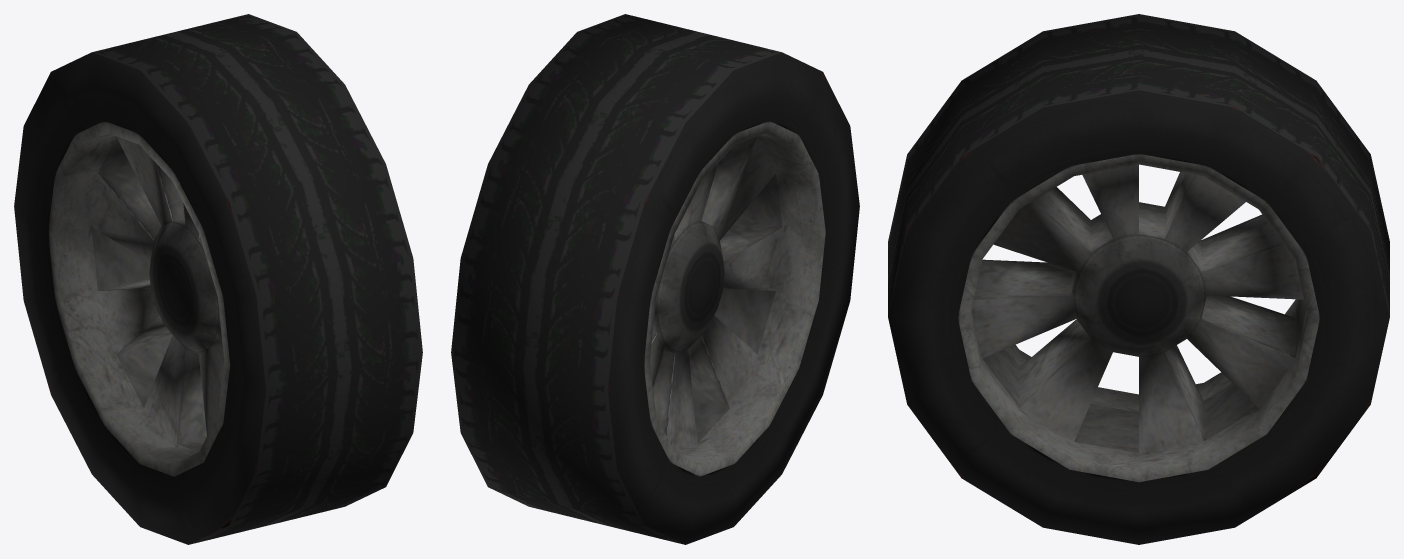
Rendered from fordpolice_wheel.obj.
3 views of the same model, side by side, from view 1: azimuth 30°, elevation 25°; view 2: azimuth 150°, elevation 25°; view 3: azimuth 270°, elevation 25° (orthographic).
Visible parts, largest first — view 1: Cylinder_Cylinder.002; view 2: Cylinder_Cylinder.002; view 3: Cylinder_Cylinder.002.
Boxes of the visible parts, <box> form: Cylinder_Cylinder.002: <box>14,14,422,544</box>; Cylinder_Cylinder.002: <box>451,14,859,544</box>; Cylinder_Cylinder.002: <box>888,14,1389,544</box>.
Bounding box in the file's own units: 0.7576 × 2 × 2.
1 material, 1 textured.
